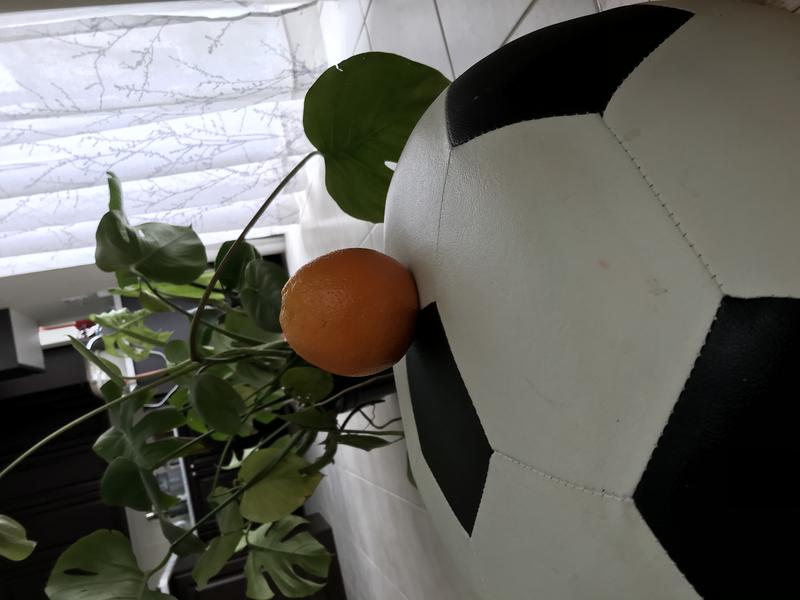orange: (267, 244, 428, 385)
